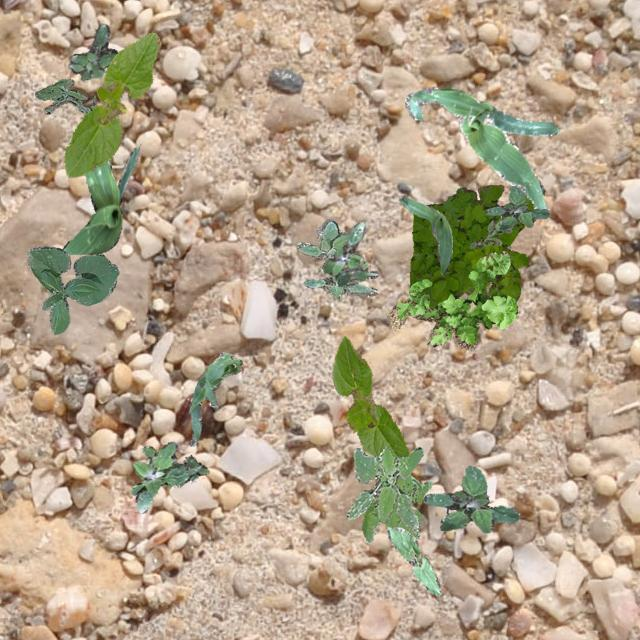crop: (404, 86, 558, 210), (64, 32, 158, 176), (332, 336, 408, 456), (62, 146, 138, 254), (26, 245, 118, 334), (188, 352, 242, 444), (398, 194, 452, 274), (386, 526, 441, 594)
weed: (408, 183, 534, 310), (388, 250, 516, 348), (296, 218, 378, 298), (422, 464, 518, 532), (346, 446, 422, 530), (130, 442, 208, 512), (360, 474, 430, 542), (321, 220, 366, 284), (67, 22, 116, 80), (484, 184, 548, 228), (35, 78, 95, 114), (468, 218, 512, 248)
